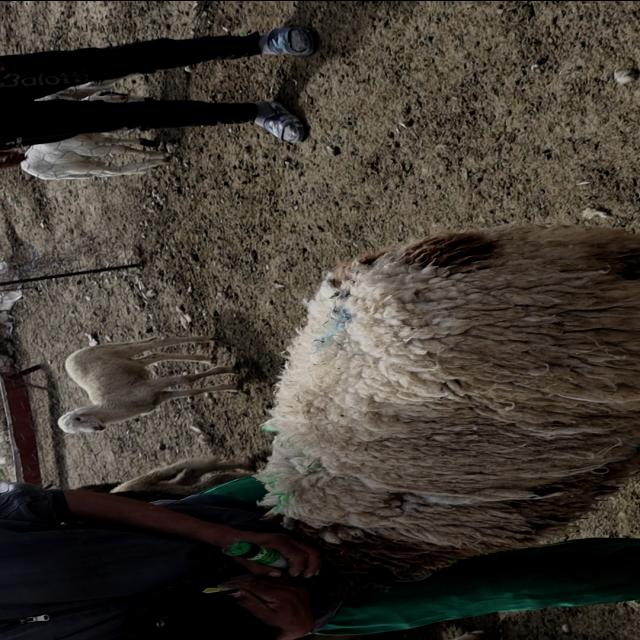Score_1: (255, 224, 639, 601)
